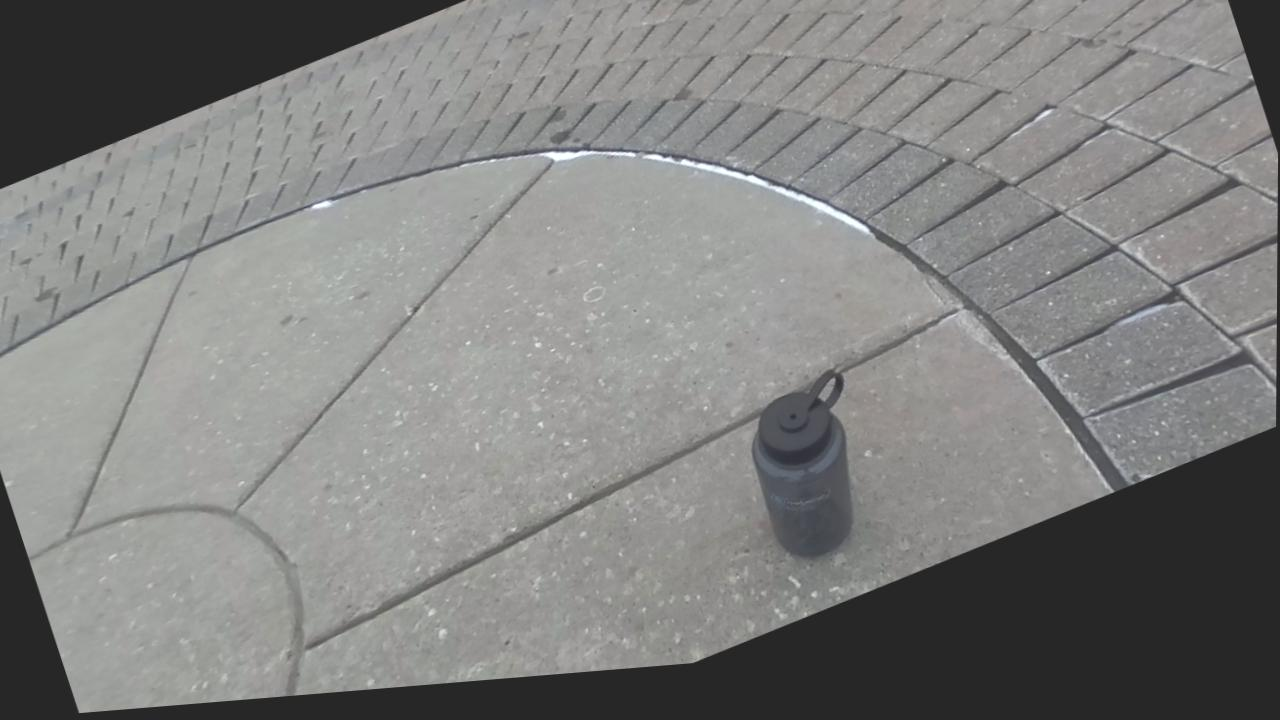bottle: (751, 371, 853, 556)
